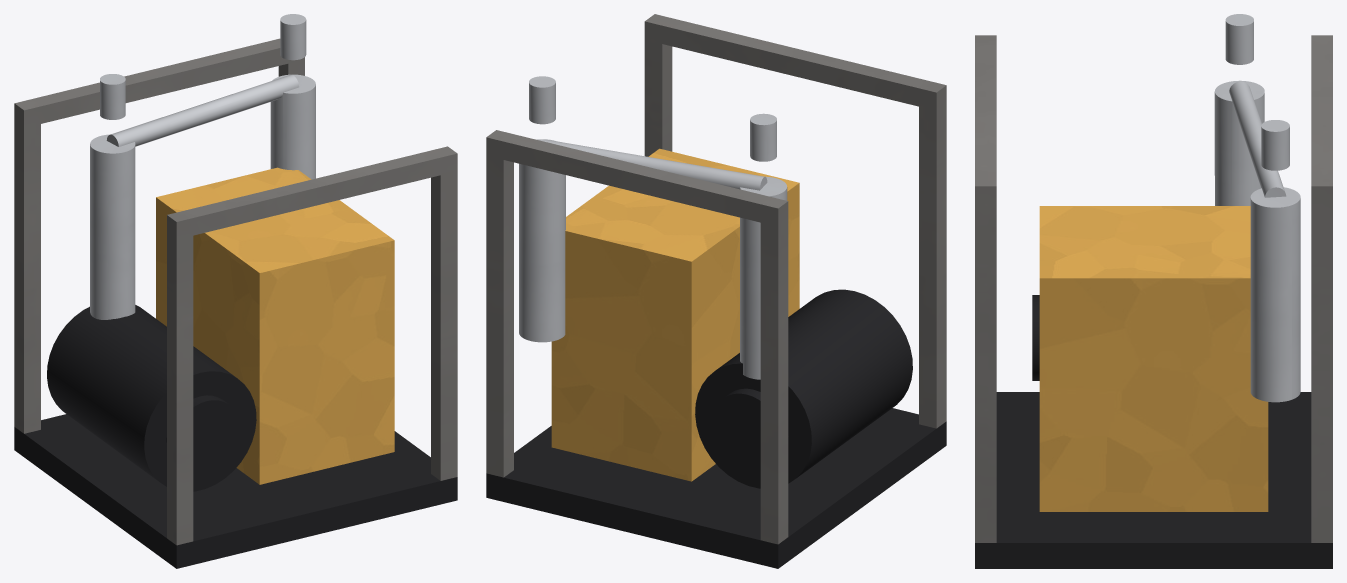
File: rover07_moxie.glb
The picture shows the model from 3 angles, left to right: view 1: azimuth 30°, elevation 25°; view 2: azimuth 150°, elevation 25°; view 3: azimuth 270°, elevation 25°; orthographic projection. The views are drawn at different scales.
Parts seen in each view (by area): view 1: soxe_stack, frame, base_plate, compressor, filters_pipes; view 2: frame, soxe_stack, base_plate, compressor, filters_pipes; view 3: soxe_stack, base_plate, frame, filters_pipes, compressor.
Part boxes in pixels (x1,y1,x2,y2): soxe_stack: (156, 167, 394, 484); frame: (14, 38, 457, 545); base_plate: (14, 414, 457, 568); compressor: (47, 305, 256, 491); filters_pipes: (90, 14, 315, 319); frame: (486, 14, 946, 544); soxe_stack: (551, 148, 799, 481); base_plate: (486, 408, 946, 568); compressor: (695, 289, 912, 488); filters_pipes: (519, 76, 787, 379); soxe_stack: (1039, 206, 1268, 511); base_plate: (975, 392, 1332, 568); frame: (975, 35, 1332, 542); filters_pipes: (1214, 14, 1300, 402); compressor: (1032, 295, 1039, 380).
Bounding box in the file's own units: 0.5 × 0.66 × 0.5.
4 materials, 3 textured.
